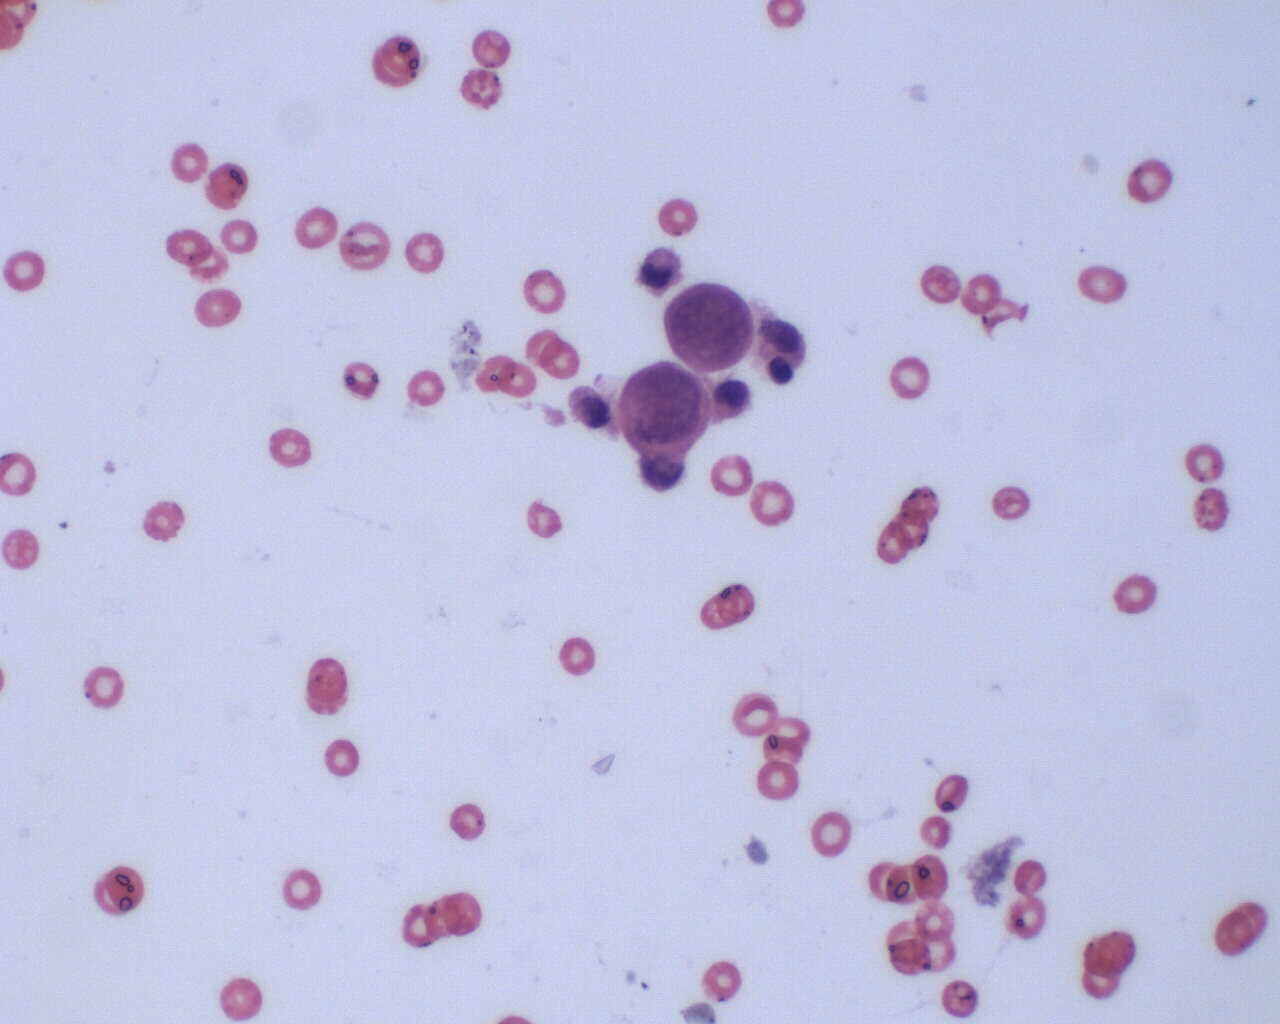ab: (613, 360, 713, 460), (660, 275, 750, 367)
